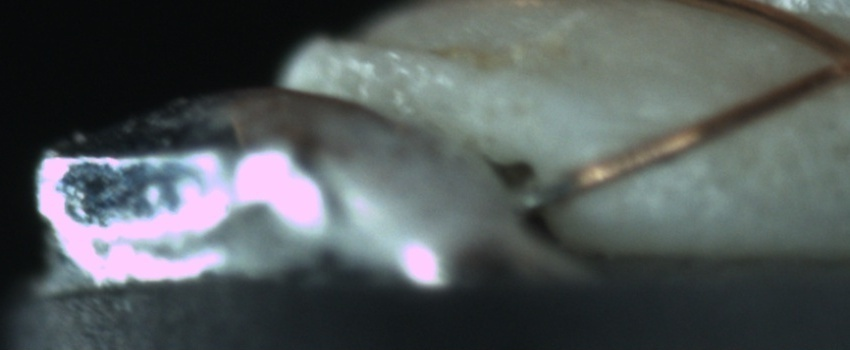CL: (803, 23, 849, 91)
TS: (516, 174, 576, 211)
